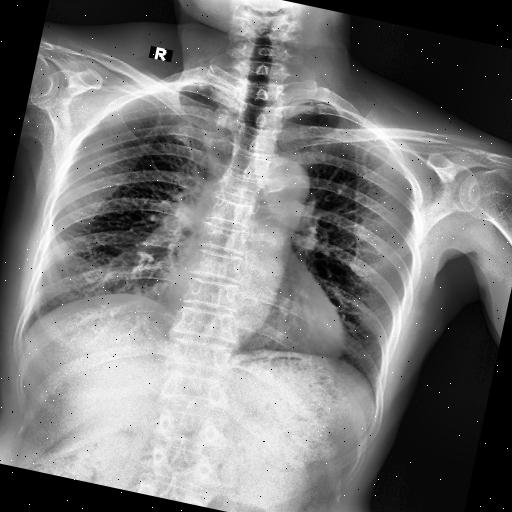0- Aortic enlargement: (239, 149, 315, 230), (238, 149, 314, 218), (245, 152, 316, 222)
11- Pleural thickening: (284, 92, 327, 110)
